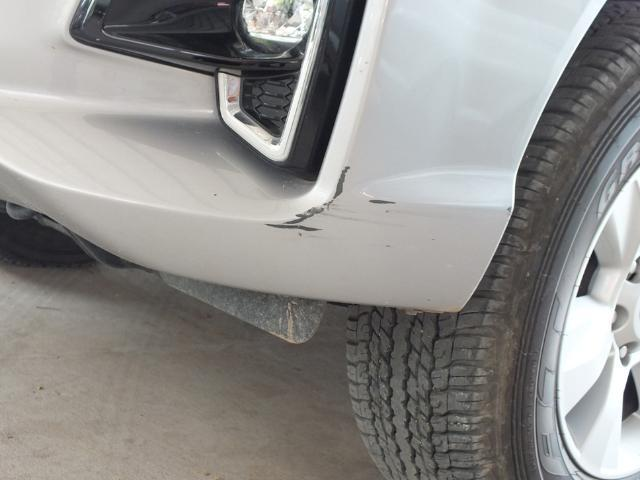Bumper: (201, 125, 460, 272)
